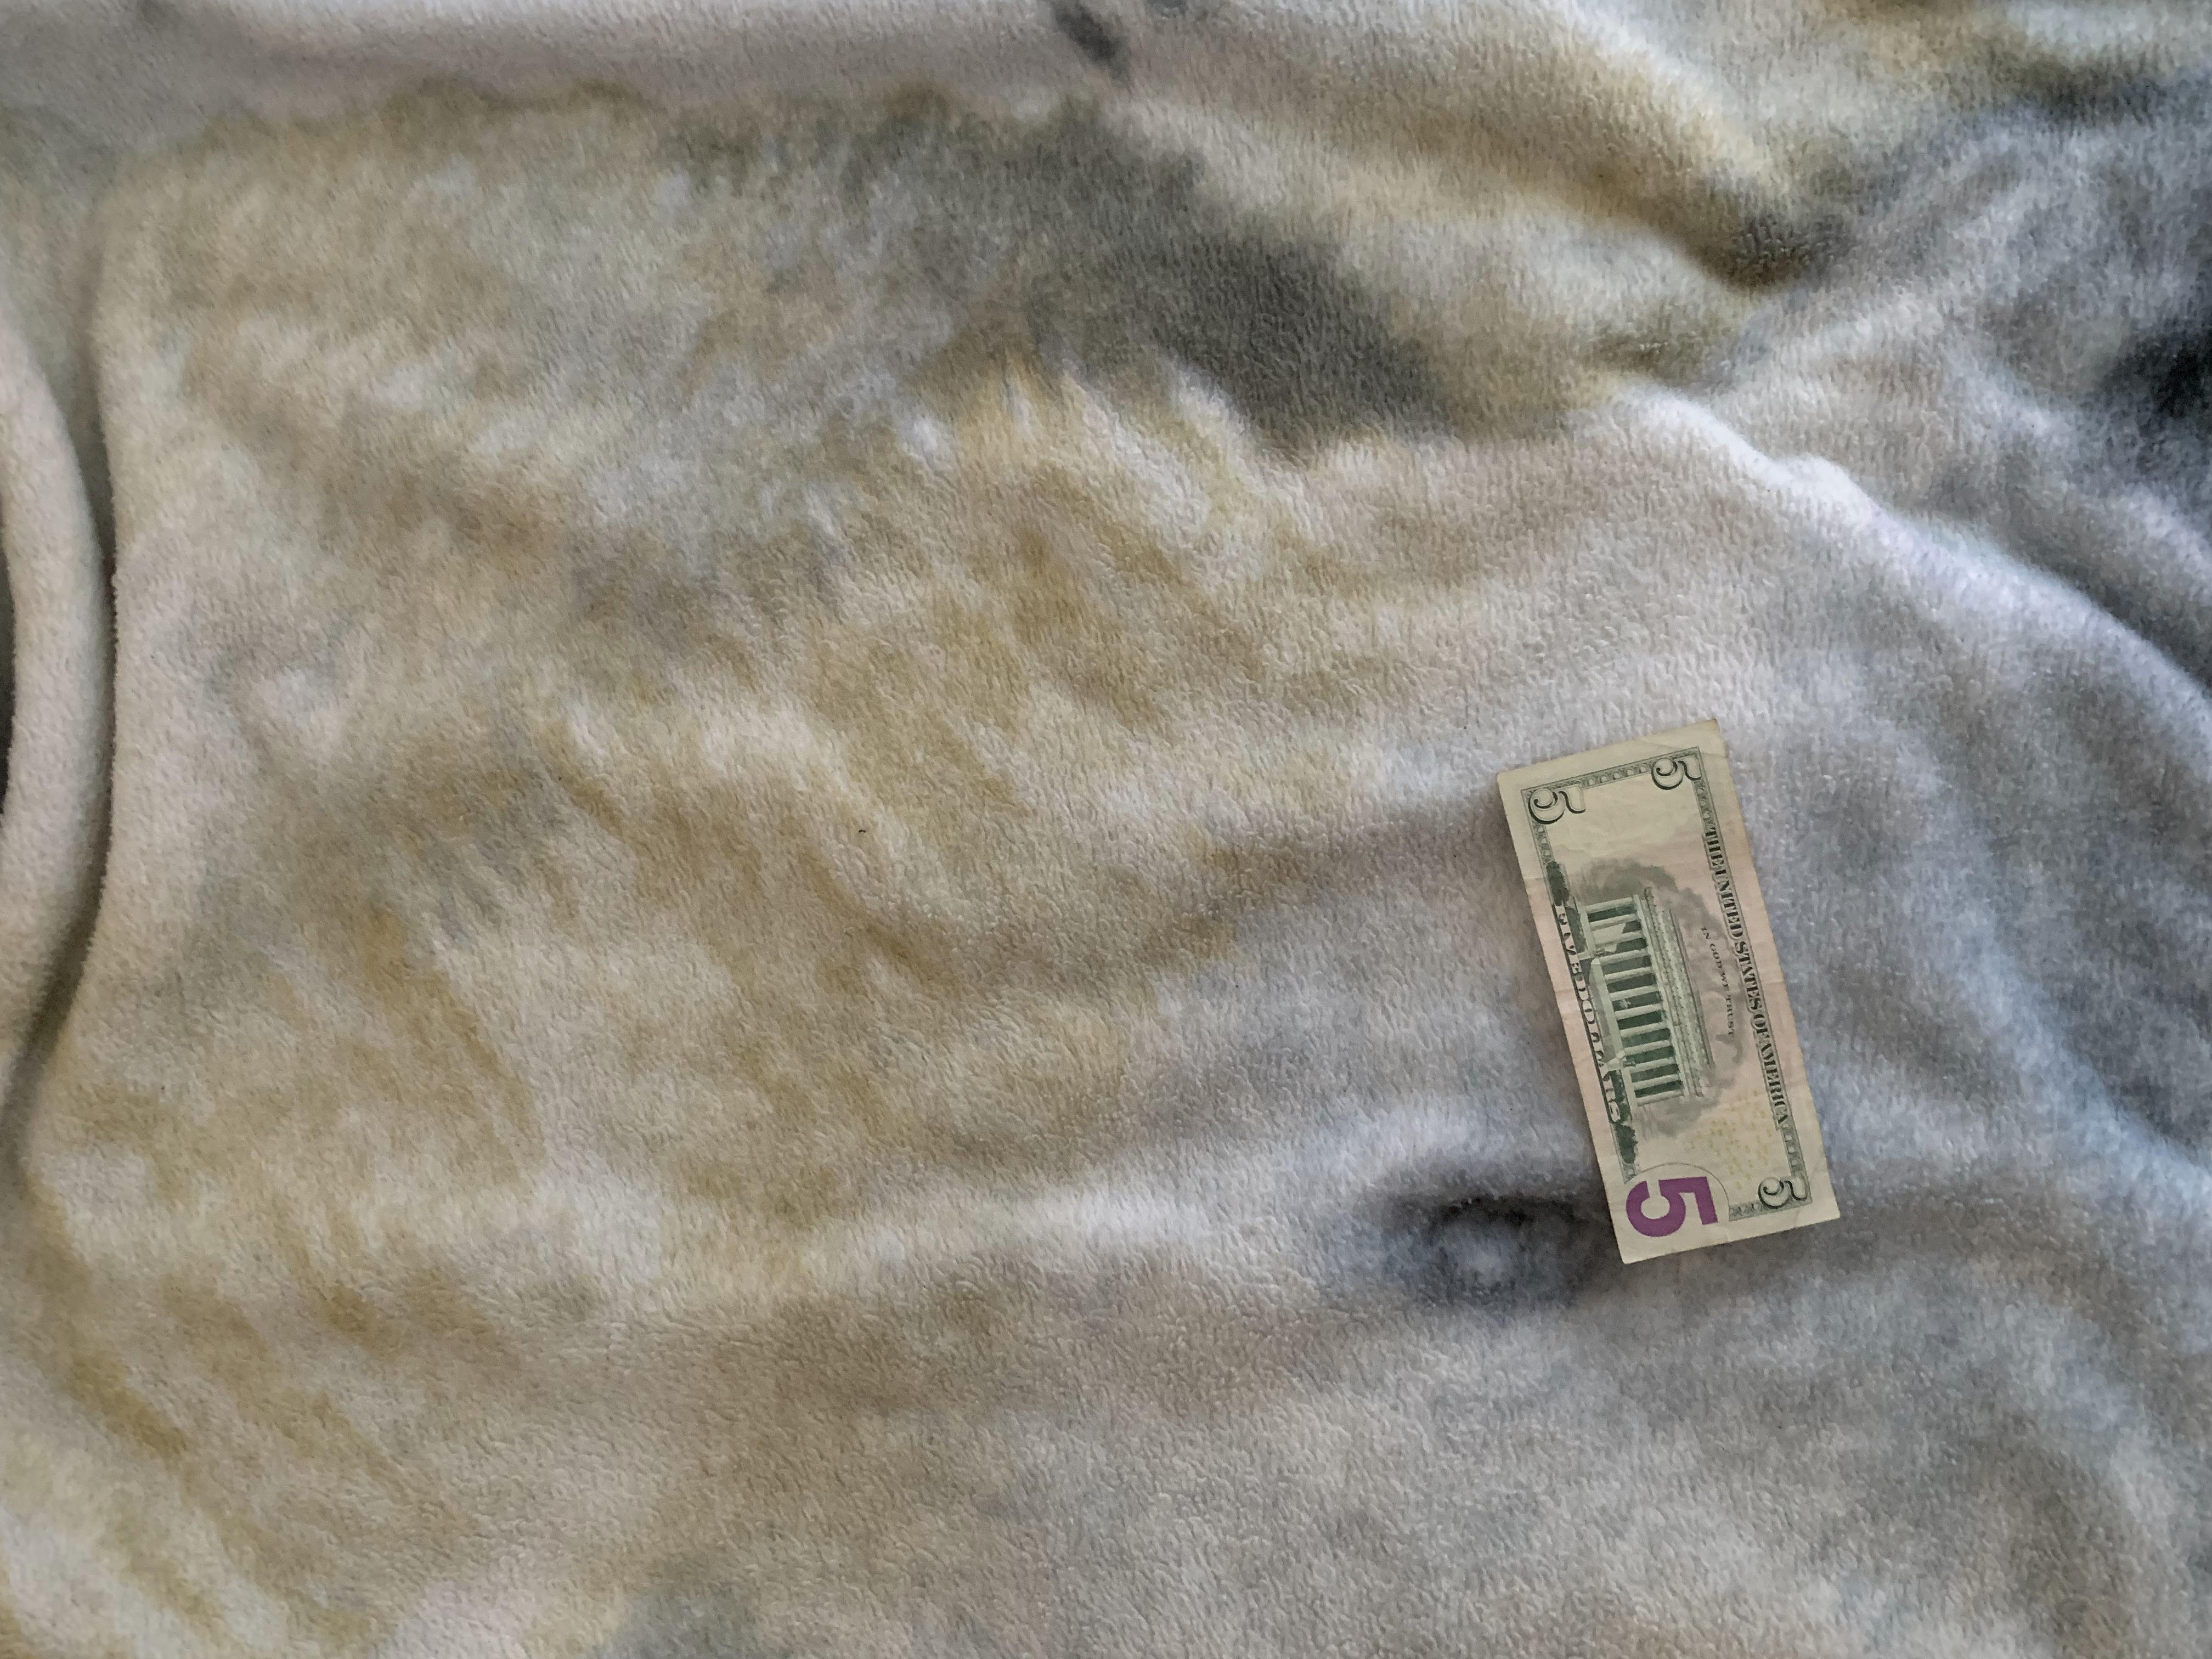FiveBill: (1493, 720, 1853, 1267)
